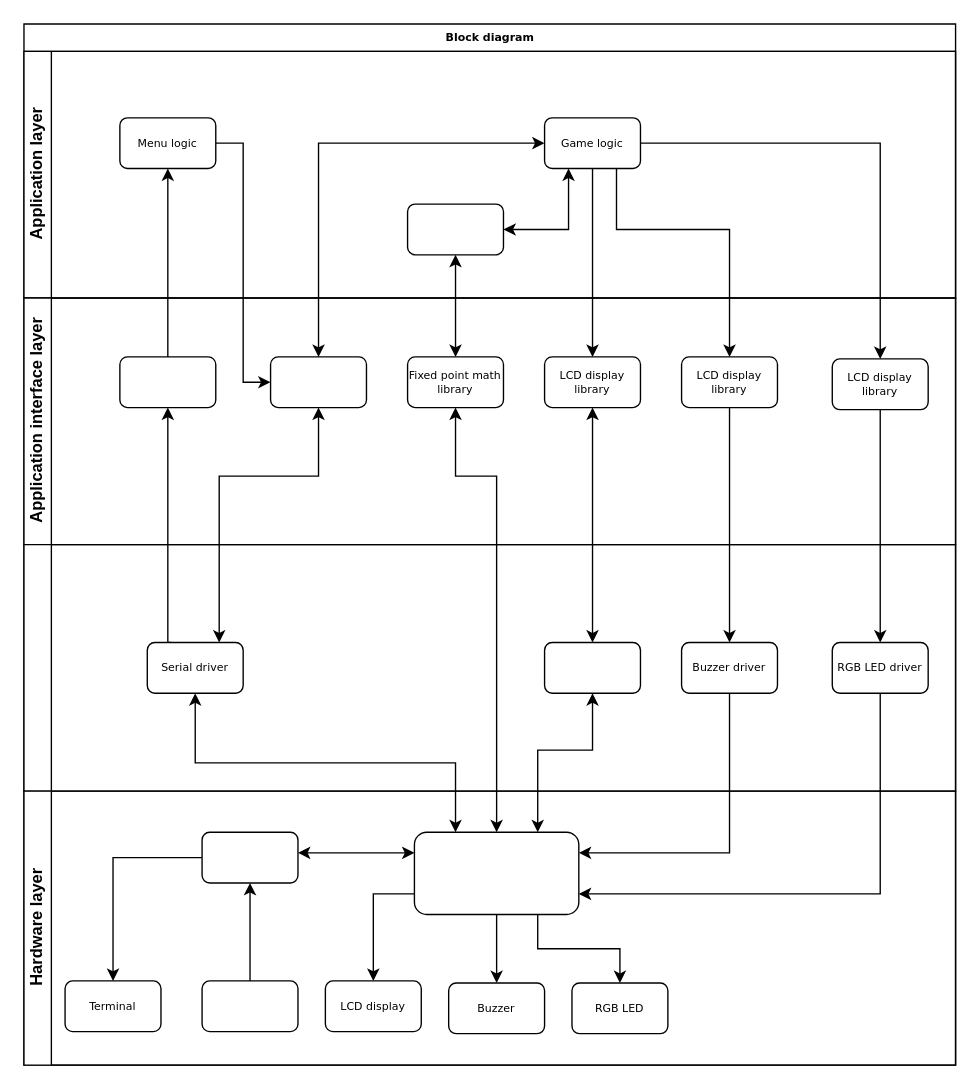
This 980x1089 diagram has some shape labels left out. The shapes that lost their labels are listed below. From the top down, each one's box as (x1, y1, x2, y2) in pixels, then its label:
(406, 203, 503, 255): Game physics
(119, 356, 216, 408): Input logic
(269, 356, 366, 408): Terminal drawing library
(23, 543, 956, 791): Hardware abstraction layer
(543, 641, 640, 693): LCD display driver
(201, 831, 298, 883): Serial port
(413, 831, 579, 914): NUCLEO-F302R8
(201, 980, 298, 1032): Keyboard
